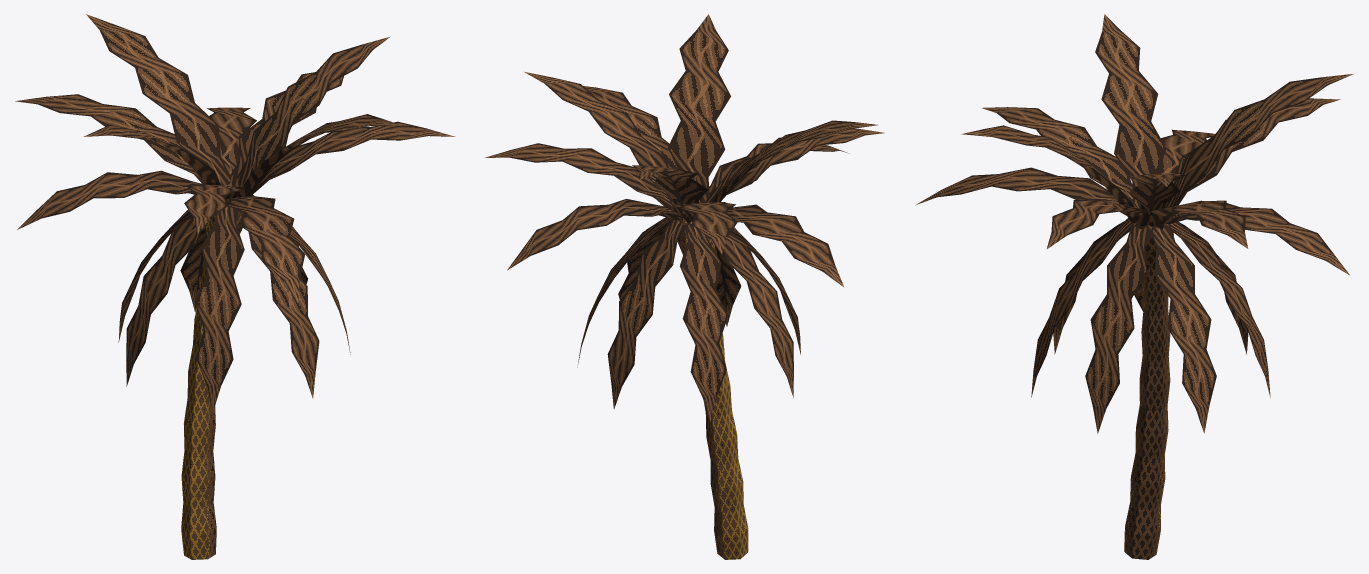
Rendered from FLO-13_Palma_de_estopa_b.gltf.
The picture shows the model from 3 angles, left to right: view 1: azimuth 30°, elevation 25°; view 2: azimuth 150°, elevation 25°; view 3: azimuth 270°, elevation 25°; orthographic projection. The views are drawn at different scales.
Visible parts, largest first — view 1: FLO-13_Palma_de_estopa_b; view 2: FLO-13_Palma_de_estopa_b; view 3: FLO-13_Palma_de_estopa_b.
Part boxes in pixels (x1,y1,x2,y2): FLO-13_Palma_de_estopa_b: [15, 14, 455, 559]; FLO-13_Palma_de_estopa_b: [484, 14, 884, 559]; FLO-13_Palma_de_estopa_b: [915, 14, 1353, 559].
Size of what is drawn, in the model's own units: 2.98 by 3.71 by 3.1.
Materials: 1 (1 with a texture image).
